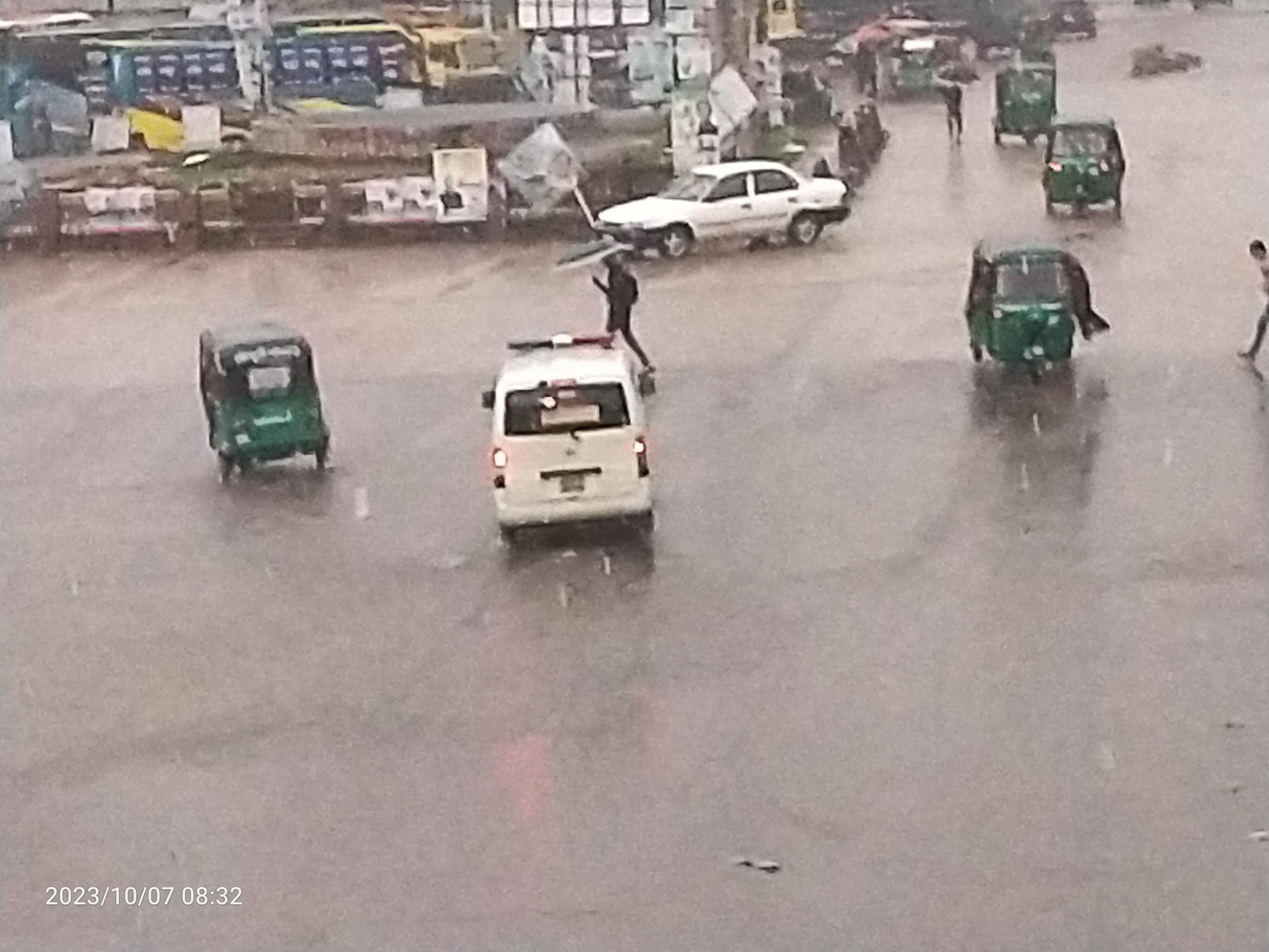Bus: (62, 1, 447, 169)
Car: (459, 297, 672, 574), (565, 131, 872, 282)
Truck: (403, 1, 530, 142)
